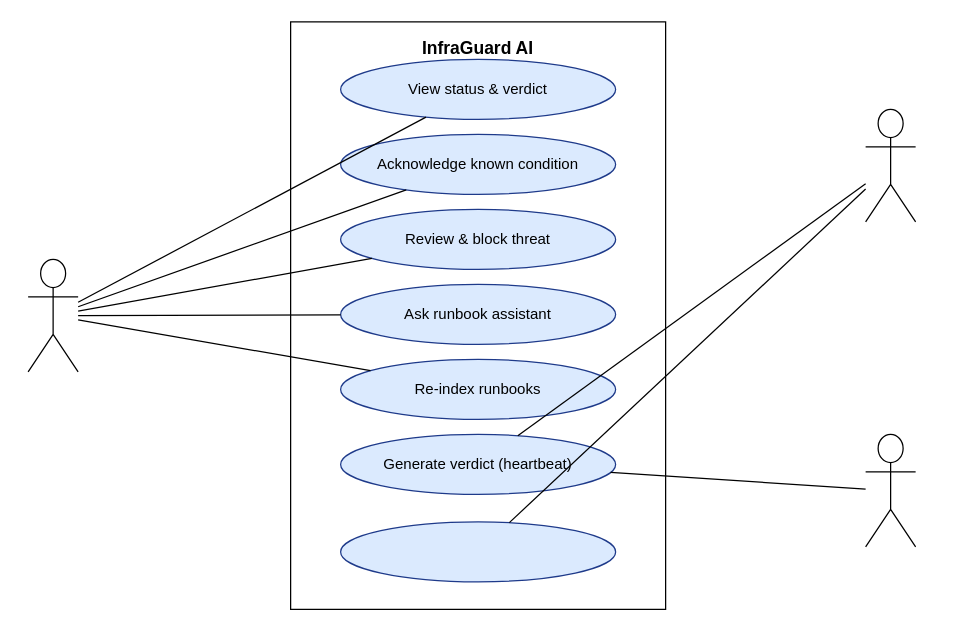
This 960x631 diagram has some shape labels left out. The shapes that lost their labels are listed below. From the top down, each one's centre as x and y in pixels, then its label:
At (890,165): "Agent".
At (52,315): "Operator".
At (890,490): "LLM Provider".
At (477,551): "Send notification".
